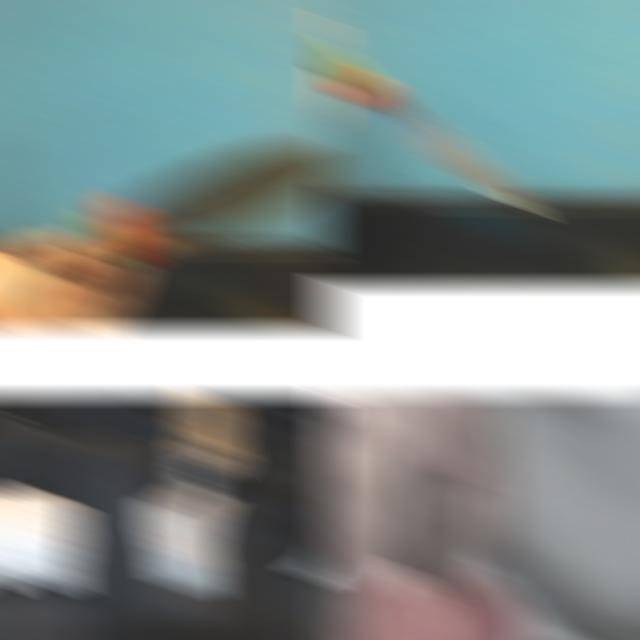Knife: (317, 34, 541, 214), (77, 139, 335, 264)
Knife_Handle: (317, 393, 517, 591)
